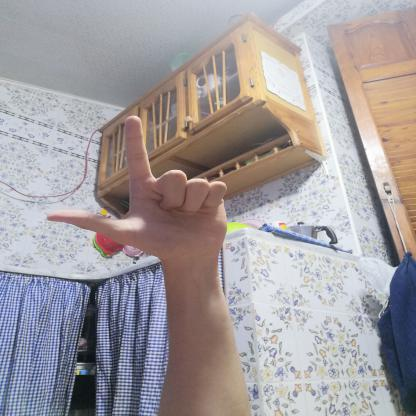LAAM: (28, 107, 241, 267)
